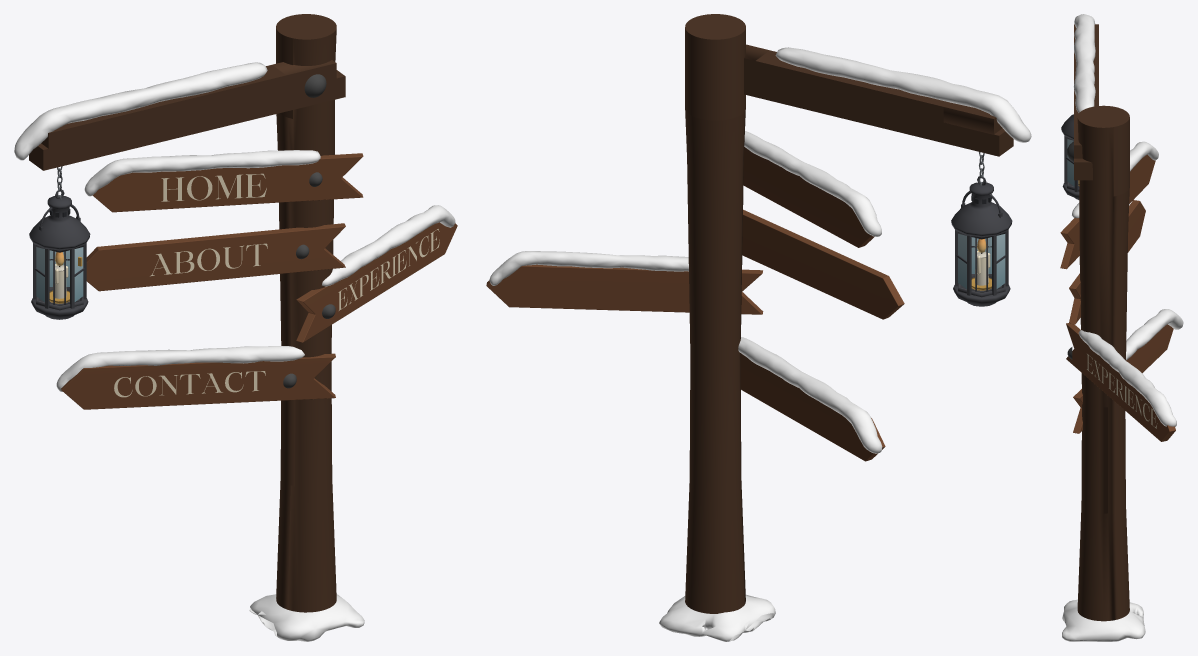
Rendered from signpost.glb.
3 renders of one model, left to right at view 1: azimuth 30°, elevation 25°; view 2: azimuth 150°, elevation 25°; view 3: azimuth 270°, elevation 25°, orthographic. The views are drawn at different scales.
Visible parts, largest first — view 1: Stand_low_Cylinder.002, Wood_low_Cube.002, Sign_About, Sign_Contact, Sign_Home, harvest_lantern.004, Sign_Experience, WoodenSign_Snow_0.005, WoodenSign_Snow_0.004, WoodenSign_Snow_0.001, WoodenSign_Snow_0.003, WoodenSign_Snow_0.002 (+4 smaller); view 2: Stand_low_Cylinder.002, Wood_low_Cube.002, Sign_Experience, Sign_About, harvest_lantern.004, WoodenSign_Snow_0.005, Sign_Home, Sign_Contact, WoodenSign_Snow_0.001, WoodenSign_Snow_0.003, WoodenSign_Snow_0.002, WoodenSign_Snow_0.004; view 3: Stand_low_Cylinder.002, Sign_Experience, WoodenSign_Snow_0.003, WoodenSign_Snow_0.002, WoodenSign_Snow_0.005, Sign_Home, Sign_Contact, Wood_low_Cube.002, WoodenSign_Snow_0.001, Sign_About, harvest_lantern.004, WoodenSign_Snow_0.004 (+1 smaller).
Boxes of the visible parts, x1=… form: Stand_low_Cylinder.002: x1=276, y1=14, x2=336, y2=612; Wood_low_Cube.002: x1=29, y1=60, x2=345, y2=170; Sign_About: x1=86, y1=223, x2=345, y2=291; Sign_Contact: x1=61, y1=353, x2=335, y2=409; Sign_Home: x1=92, y1=153, x2=363, y2=212; harvest_lantern.004: x1=29, y1=166, x2=90, y2=319; Sign_Experience: x1=296, y1=222, x2=457, y2=342; WoodenSign_Snow_0.005: x1=14, y1=62, x2=267, y2=160; WoodenSign_Snow_0.004: x1=84, y1=150, x2=320, y2=196; WoodenSign_Snow_0.001: x1=56, y1=346, x2=304, y2=391; WoodenSign_Snow_0.003: x1=249, y1=594, x2=364, y2=641; WoodenSign_Snow_0.002: x1=322, y1=205, x2=455, y2=286; Stand_low_Cylinder.002: x1=685, y1=14, x2=745, y2=613; Wood_low_Cube.002: x1=744, y1=44, x2=1013, y2=156; Sign_Experience: x1=486, y1=264, x2=763, y2=314; Sign_About: x1=742, y1=209, x2=904, y2=319; harvest_lantern.004: x1=951, y1=152, x2=1012, y2=306; WoodenSign_Snow_0.005: x1=775, y1=47, x2=1031, y2=142; Sign_Home: x1=743, y1=147, x2=874, y2=247; Sign_Contact: x1=740, y1=353, x2=885, y2=461; WoodenSign_Snow_0.001: x1=738, y1=337, x2=882, y2=453; WoodenSign_Snow_0.003: x1=659, y1=594, x2=775, y2=641; WoodenSign_Snow_0.002: x1=489, y1=251, x2=688, y2=285; WoodenSign_Snow_0.004: x1=744, y1=131, x2=881, y2=236; Stand_low_Cylinder.002: x1=1077, y1=105, x2=1129, y2=621; Sign_Experience: x1=1066, y1=323, x2=1175, y2=441; WoodenSign_Snow_0.003: x1=1062, y1=599, x2=1145, y2=641; WoodenSign_Snow_0.002: x1=1078, y1=330, x2=1176, y2=426; WoodenSign_Snow_0.005: x1=1073, y1=14, x2=1095, y2=112; Sign_Home: x1=1060, y1=154, x2=1155, y2=269; Sign_Contact: x1=1073, y1=324, x2=1173, y2=433; Wood_low_Cube.002: x1=1074, y1=24, x2=1098, y2=180; WoodenSign_Snow_0.001: x1=1126, y1=309, x2=1183, y2=360; Sign_About: x1=1069, y1=200, x2=1145, y2=324; harvest_lantern.004: x1=1061, y1=114, x2=1079, y2=199; WoodenSign_Snow_0.004: x1=1072, y1=141, x2=1158, y2=218.
Size of the model in its own units: 6.38 by 7.36 by 1.61.
